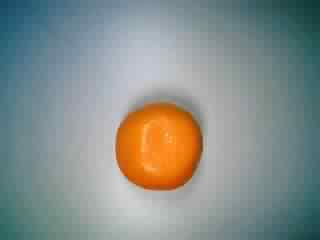orange: (110, 99, 208, 197)
